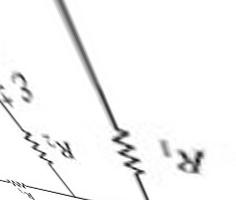resistor: (106, 120, 146, 180), (14, 123, 52, 171)
